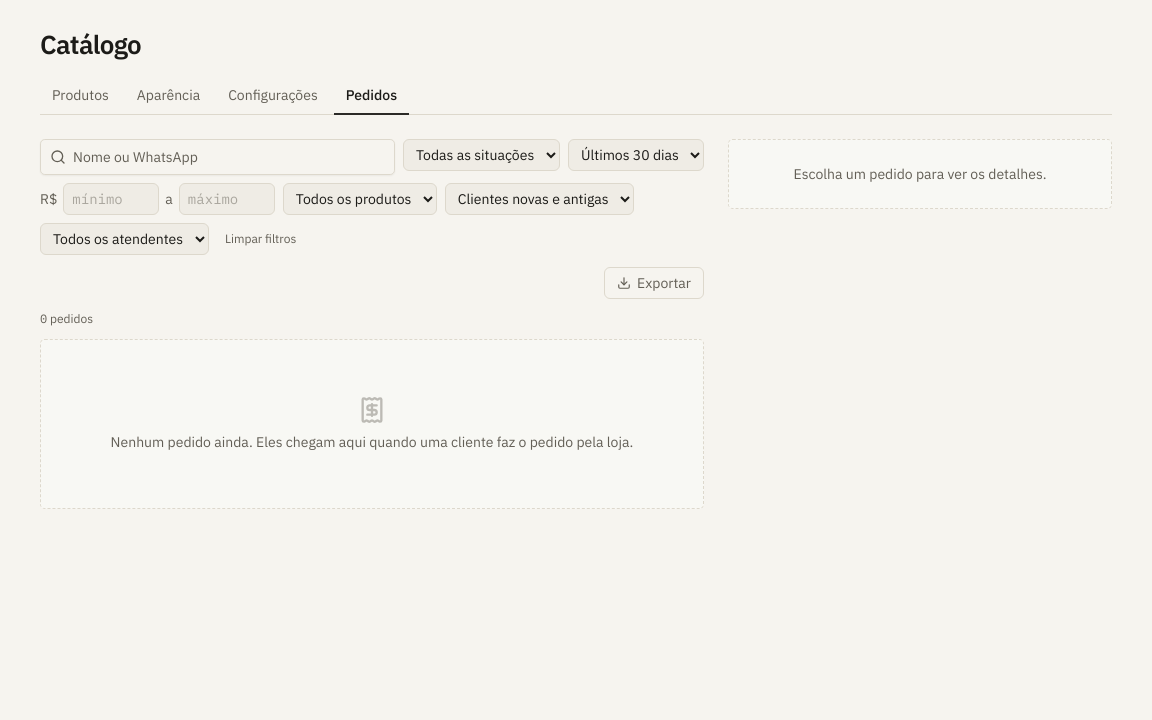
Scenario: B39-01 — filtros da tela Pedidos › CA-B39-02: should avisar e não filtrar quando o dia final vem antes do inicial
Step 1. Select "Personalizado" in the dropdown named "Filtrar por período" → (636, 154), box [568,138,704,170]
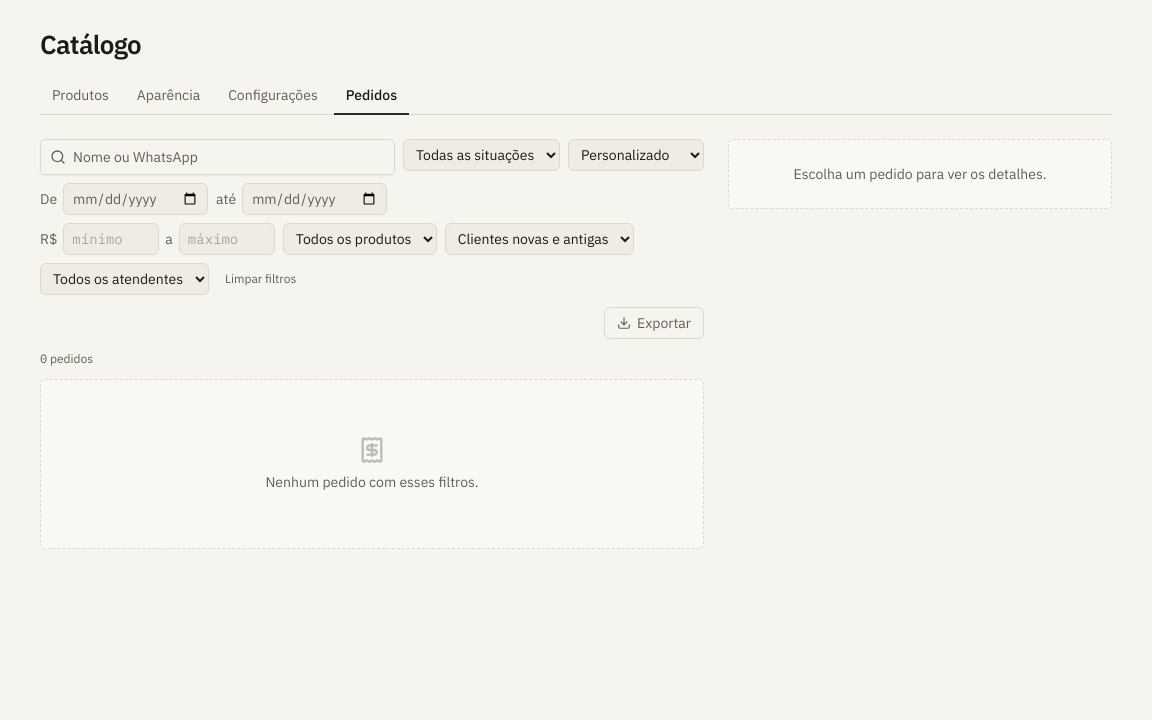
Step 2. Type "2026-10-15" into the date field named "Dia inicial" → (136, 198), box [63,182,208,214]
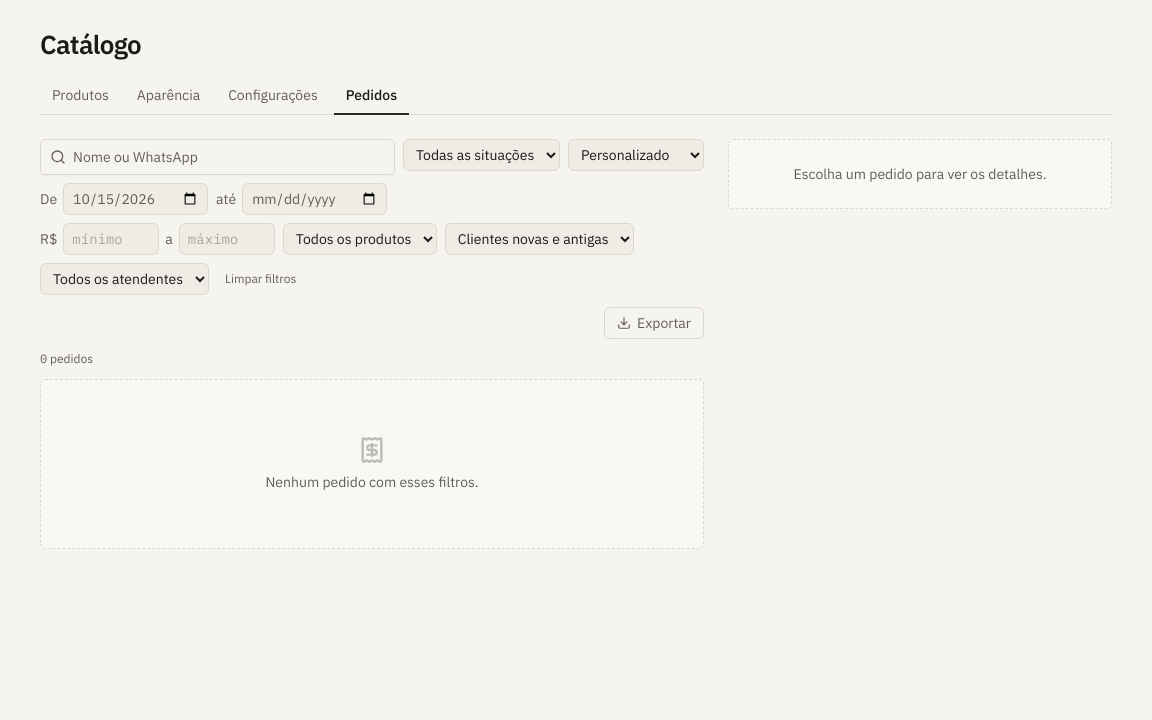
Step 3. Type "2026-10-05" into the date field named "Dia final" → (315, 198), box [242,182,387,214]
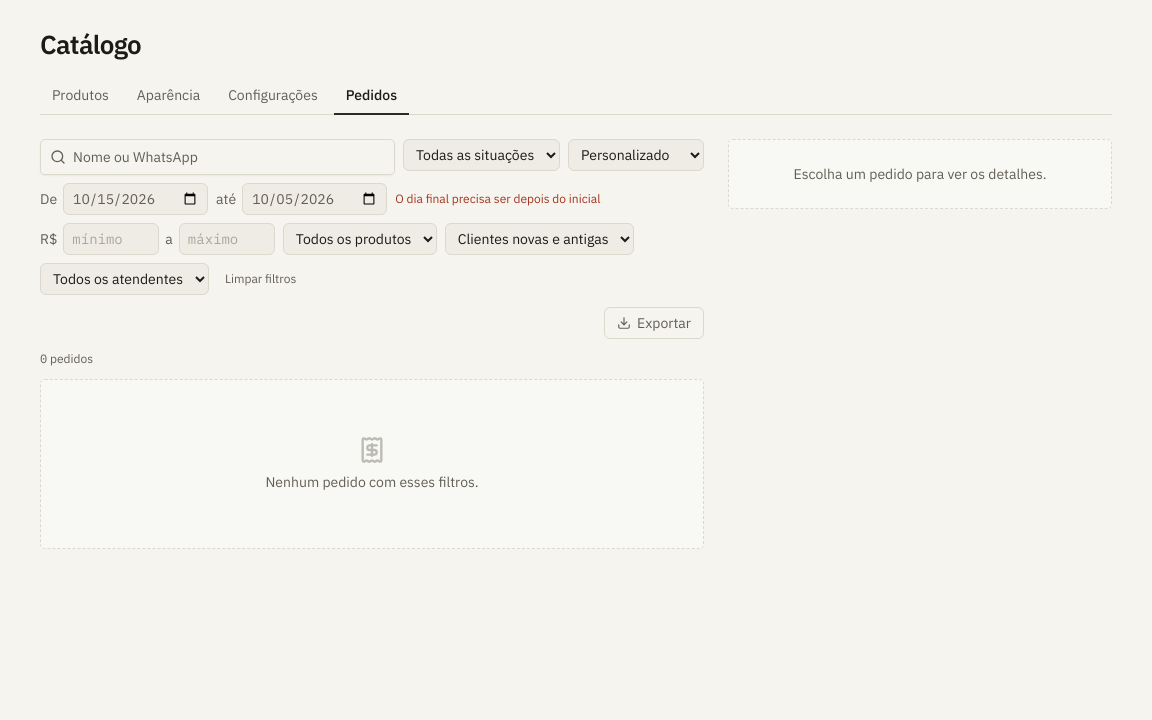
Now the message reads "O dia final precisa ser depois do inicial", box [395,190,600,206]
